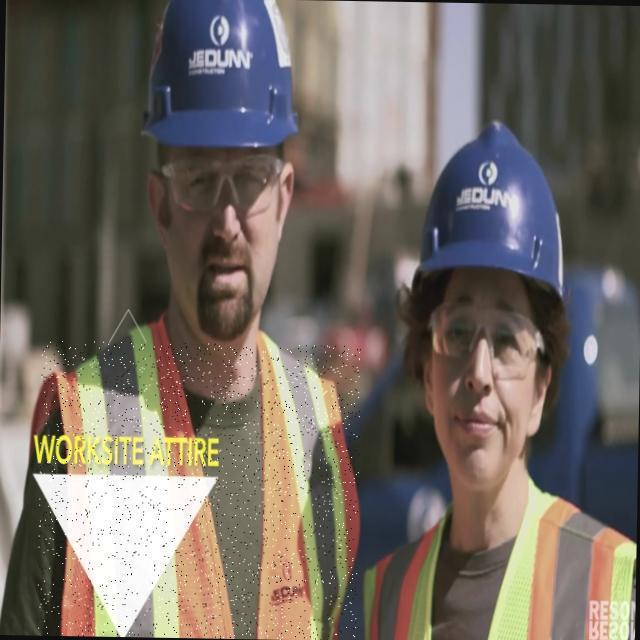helmet: (396, 114, 576, 326), (136, 0, 295, 162)
vest: (36, 340, 360, 640)
